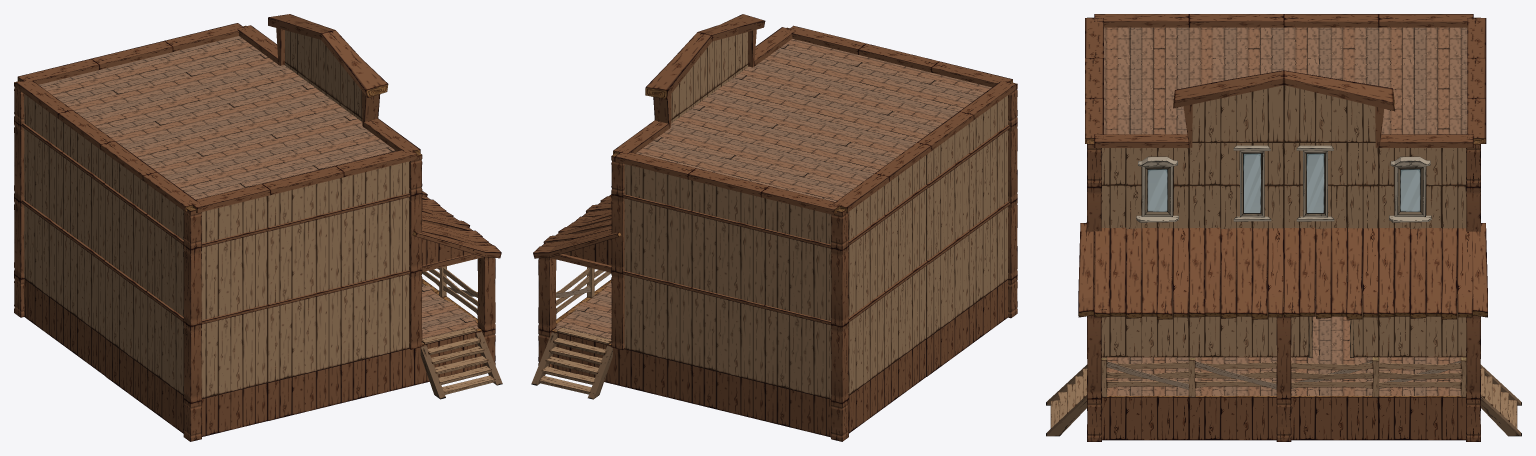
Rendered from domek test.fbx.
3 renders of one model, left to right at view 1: azimuth 30°, elevation 25°; view 2: azimuth 150°, elevation 25°; view 3: azimuth 270°, elevation 25°, orthographic. The views are drawn at different scales.
Parts seen in each view (by area): view 1: Fasada drewniane deski poziome1.002, Ceglana Sciana1.057, Ceglana Sciana1.055, Ceglana Sciana1.064, Ceglana Sciana1.058, Ceglana Sciana1.068, Ceglana Sciana1.046, Schody.drewno1.002, Ceglana Sciana1.072, Ceglana Sciana1.080, Podłoga.drewno1.023, Podłoga.drewno1.022 (+58 smaller); view 2: Fasada drewniane deski poziome1.002, Ceglana Sciana1.042, Ceglana Sciana1.040, Ceglana Sciana1.039, Ceglana Sciana1.037, Ceglana Sciana1.044, Ceglana Sciana1.035, Schody.drewno1.001, Ceglana Sciana1.072, Ceglana Sciana1.080, Ceglana Sciana1.070, Ceglana Sciana1.078 (+58 smaller); view 3: Fasada drewniane deski poziome1.002, Dach.Drewno1 1/2.005, Dach.Drewno1 1/2.004, Dach.Drewno1 1/2.006, Dach.Drewno1 1/2.003, Ceglana Sciana1.049, Ceglana Sciana1.050, Ceglana Sciana1.051, Ceglana Sciana1.052, Ceglana Sciana1.033, Ceglana Sciana1.034, Ceglana Sciana1.036 (+58 smaller).
Part boxes in pixels (box(x1,y1,x2,y2)): Fasada drewniane deski poziome1.002: box(268, 14, 388, 126); Ceglana Sciana1.057: box(267, 291, 341, 382); Ceglana Sciana1.055: box(267, 214, 341, 304); Ceglana Sciana1.064: box(341, 274, 409, 364); Ceglana Sciana1.058: box(341, 197, 409, 286); Ceglana Sciana1.068: box(201, 308, 267, 398); Ceglana Sciana1.046: box(201, 231, 267, 320); Schody.drewno1.002: box(420, 327, 502, 399); Ceglana Sciana1.072: box(105, 265, 147, 368); Ceglana Sciana1.080: box(63, 234, 105, 337); Podłoga.drewno1.023: box(182, 113, 296, 161); Podłoga.drewno1.022: box(139, 82, 254, 130); Fasada drewniane deski poziome1.002: box(645, 14, 765, 127); Ceglana Sciana1.042: box(692, 291, 765, 382); Ceglana Sciana1.040: box(692, 215, 765, 304); Ceglana Sciana1.039: box(624, 275, 692, 364); Ceglana Sciana1.037: box(624, 198, 692, 286); Ceglana Sciana1.044: box(765, 309, 831, 398); Ceglana Sciana1.035: box(765, 233, 831, 320); Schody.drewno1.001: box(531, 327, 612, 399); Ceglana Sciana1.072: box(926, 235, 968, 338); Ceglana Sciana1.080: box(884, 266, 926, 368); Ceglana Sciana1.070: box(926, 158, 968, 260); Ceglana Sciana1.078: box(884, 189, 926, 291); Fasada drewniane deski poziome1.002: box(1173, 70, 1394, 147); Dach.Drewno1 1/2.005: box(1283, 227, 1378, 319); Dach.Drewno1 1/2.004: box(1189, 227, 1283, 319); Dach.Drewno1 1/2.006: box(1378, 227, 1472, 319); Dach.Drewno1 1/2.003: box(1094, 227, 1188, 319); Ceglana Sciana1.049: box(1101, 396, 1189, 440); Ceglana Sciana1.050: box(1378, 396, 1466, 440); Ceglana Sciana1.051: box(1291, 396, 1378, 440); Ceglana Sciana1.052: box(1189, 396, 1276, 440); Ceglana Sciana1.033: box(1101, 274, 1189, 357); Ceglana Sciana1.034: box(1378, 274, 1466, 357); Ceglana Sciana1.036: box(1189, 274, 1276, 357).
Size of the model in its own units: 1277 by 1135 by 1506.
